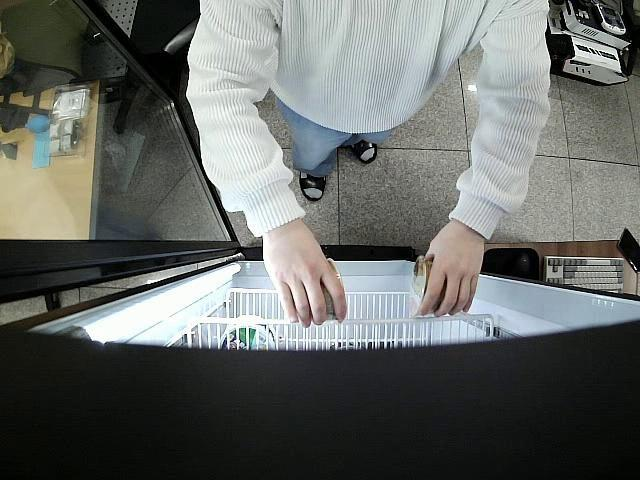04_chapagetti_S: (407, 254, 448, 317), (319, 254, 346, 322)
